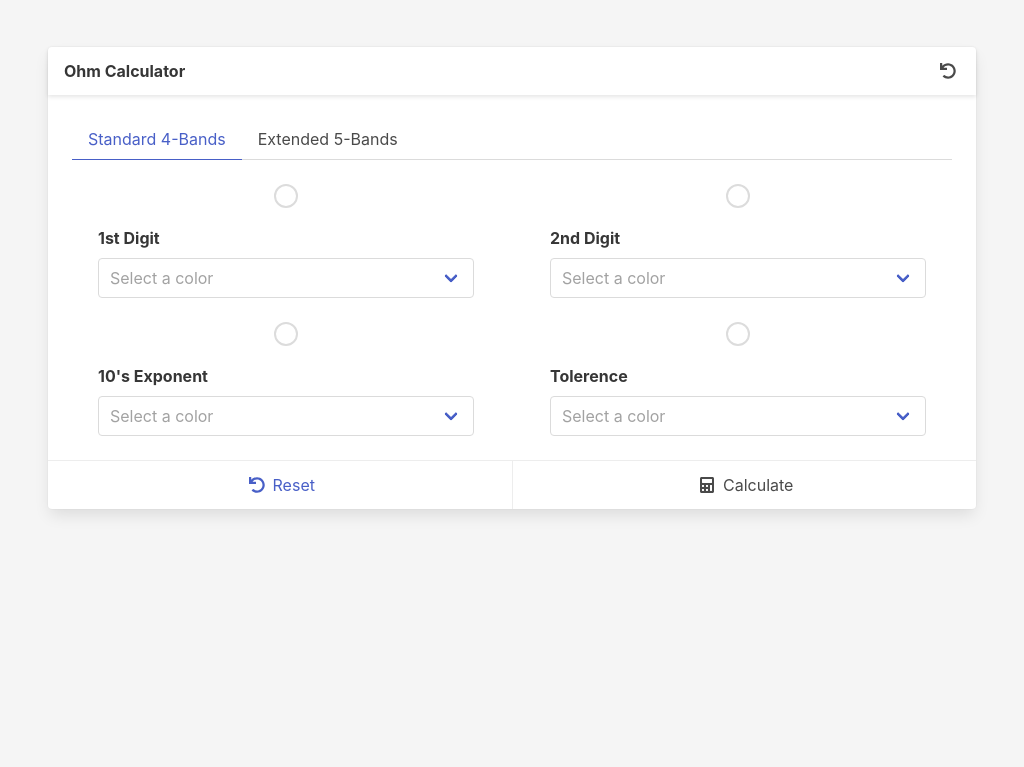
values return by server calculation are shown
The width and height of the screenshot is (1024, 767).
Select "black" in the dropdown labelled "1st Digit": (286, 278) [98, 258, 474, 298]
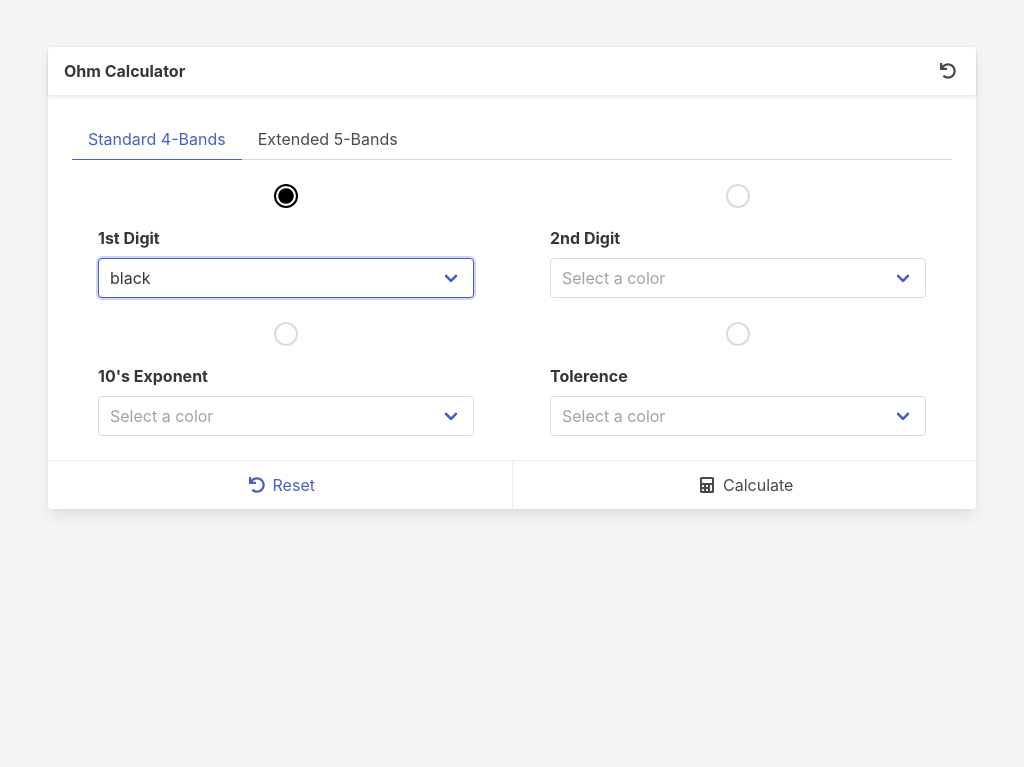
Select "black" in the dropdown labelled "2nd Digit": (738, 278) [550, 258, 926, 298]
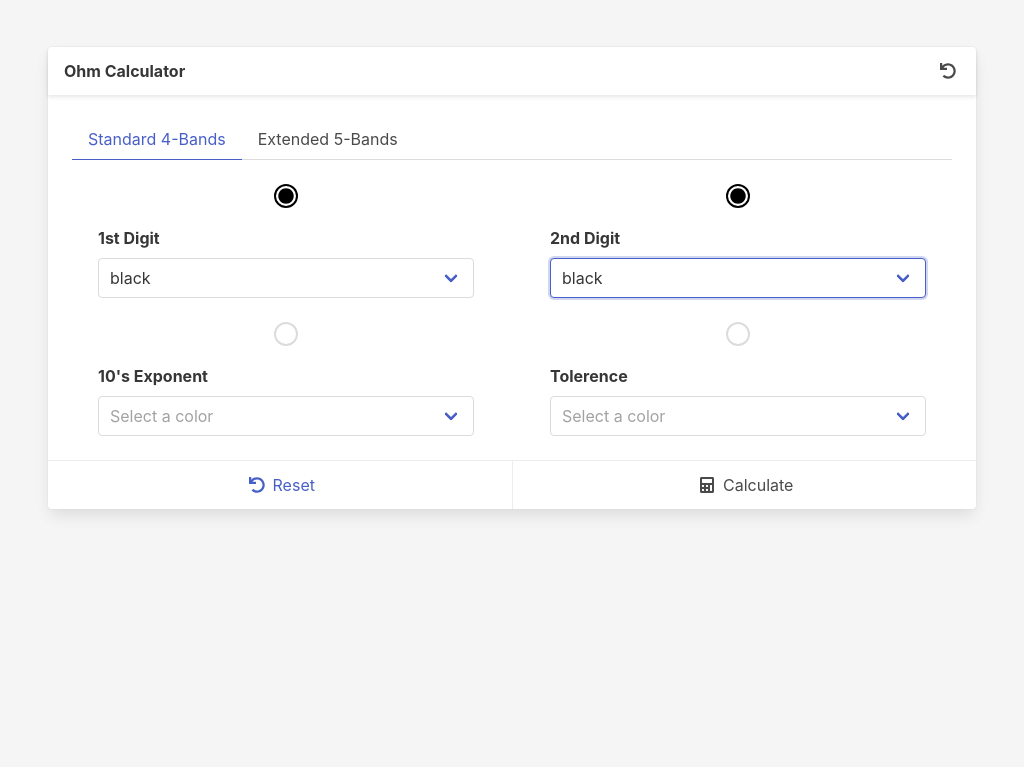
Select "black" in the dropdown labelled "10's Exponent": (286, 416) [98, 396, 474, 436]
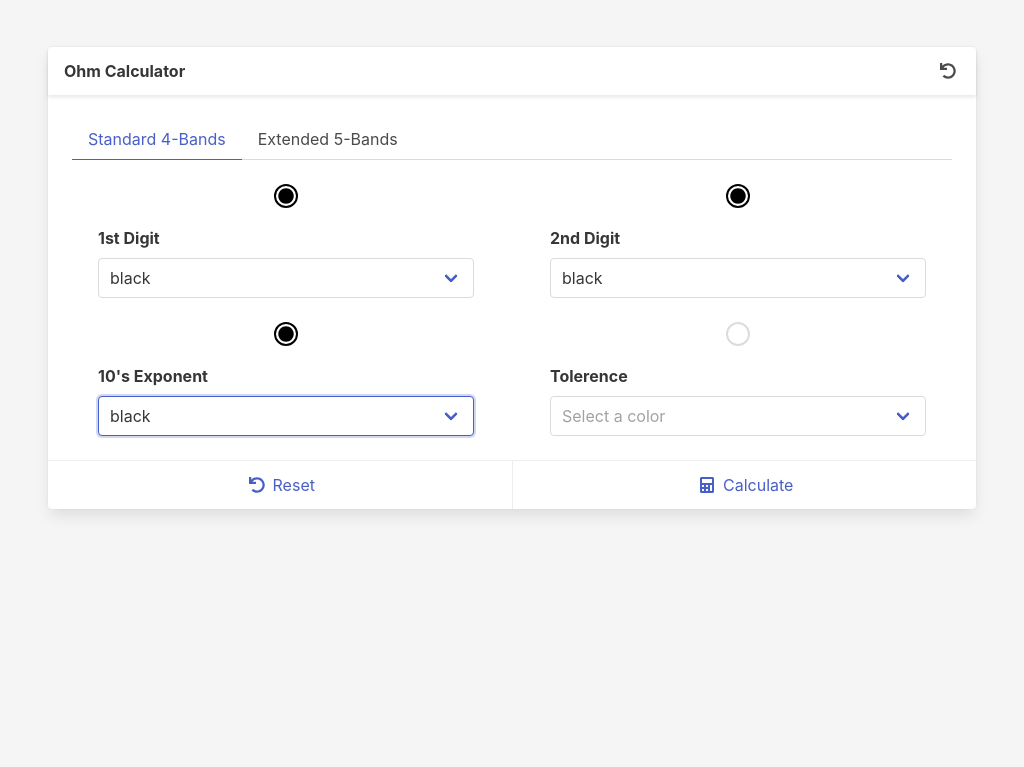
Click the button with test id "calculate-buton": (747, 485) [700, 475, 793, 495]
(page scrolled)
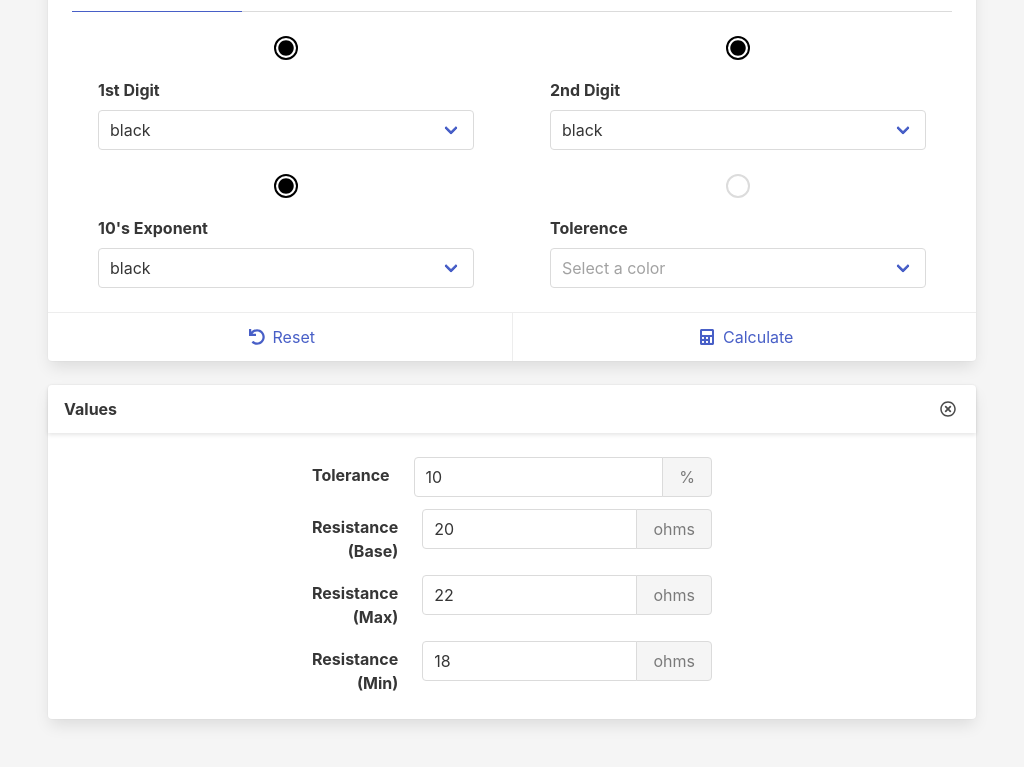
expect the text "Values" is shown: met, box [64, 399, 117, 419]
expect the field showing "20" next to "Resistance (Base)" is shown: met, box [422, 509, 638, 549]
expect the field showing "10" next to "Tolerance" is shown: met, box [414, 457, 663, 497]
